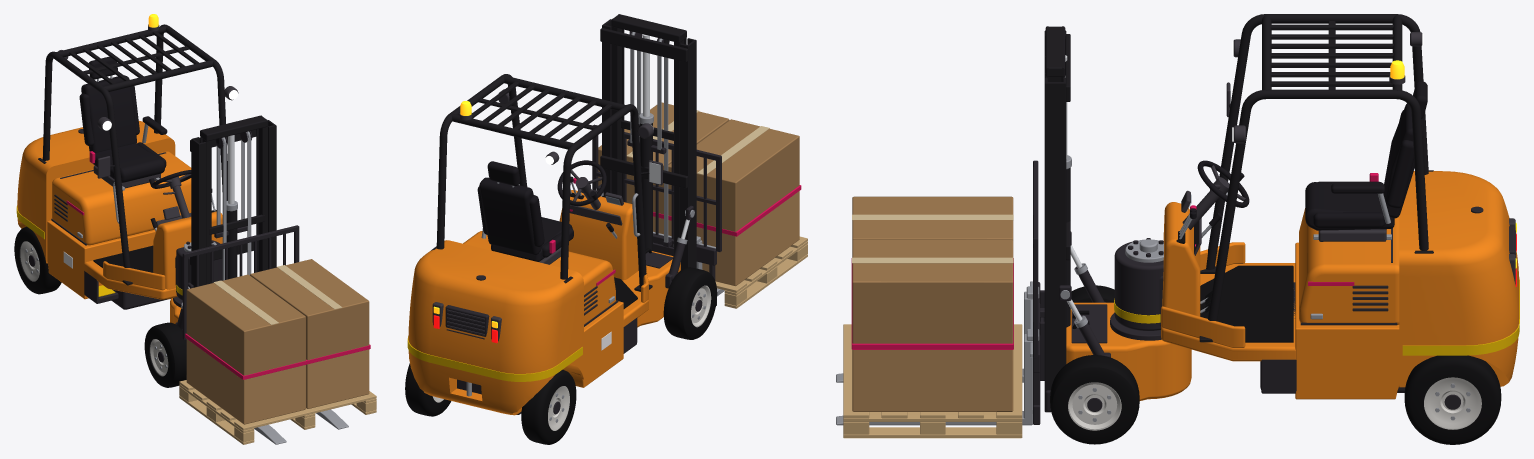
The model's file is pivot.glb.
3 views of the same model, side by side, from view 1: azimuth 30°, elevation 25°; view 2: azimuth 150°, elevation 25°; view 3: azimuth 270°, elevation 25° (orthographic). The views are drawn at different scales.
Parts seen in each view (by area): view 1: frame, pallet_top, yoke, mast_inner_rail, car_bar_lo, w_front, w_rear, chain_f.001, w_rear_rim, chain_f, w_front_rim, chain_r; view 2: frame, pallet_top, yoke, mast_inner_rail, car_bar_lo, w_front, w_rear, w_rear.001, chain_f, w_rear_rim, w_front_rim, chain_r; view 3: frame, pallet_top, yoke, w_rear.001, w_front.001, car_bar_lo, w_rear_rim.001, w_front_rim.001, mast_inner_rail.
Boxes of the visible parts, <box> form: frame: <box>16,14,238,309</box>; pallet_top: <box>179,259,376,444</box>; yoke: <box>170,120,276,330</box>; mast_inner_rail: <box>200,115,267,284</box>; car_bar_lo: <box>182,225,348,444</box>; w_front: <box>144,322,186,387</box>; w_rear: <box>14,226,61,294</box>; chain_f.001: <box>247,137,251,275</box>; w_rear_rim: <box>20,241,39,281</box>; chain_f: <box>222,143,226,280</box>; w_front_rim: <box>150,339,168,376</box>; chain_r: <box>216,145,220,225</box>; frame: <box>407,74,662,415</box>; pallet_top: <box>598,102,807,308</box>; yoke: <box>596,19,696,327</box>; mast_inner_rail: <box>611,14,686,253</box>; car_bar_lo: <box>592,124,724,305</box>; w_front: <box>663,267,717,339</box>; w_rear: <box>521,369,576,444</box>; w_rear.001: <box>405,363,451,416</box>; chain_f: <box>664,57,668,242</box>; w_rear_rim: <box>548,386,569,430</box>; w_front_rim: <box>691,285,711,327</box>; chain_r: <box>657,55,661,150</box>; frame: <box>1114,14,1519,399</box>; pallet_top: <box>843,196,1022,438</box>; yoke: <box>1044,30,1191,412</box>; w_rear.001: <box>1404,355,1501,444</box>; w_front.001: <box>1050,355,1139,444</box>; car_bar_lo: <box>836,160,1044,425</box>; w_rear_rim.001: <box>1424,377,1481,429</box>; w_front_rim.001: <box>1068,382,1121,430</box>; mast_inner_rail: <box>1045,26,1067,158</box>.
Size of the model in its own units: 1.28 by 2.3 by 3.82.
